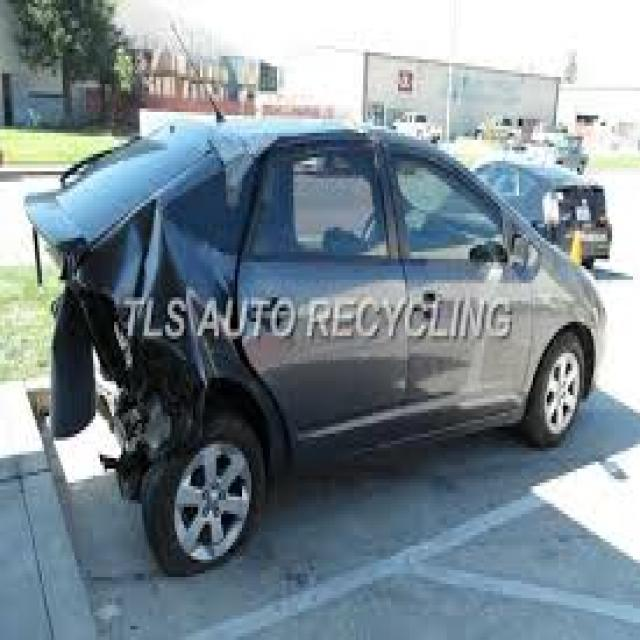severe: (17, 113, 325, 536)
